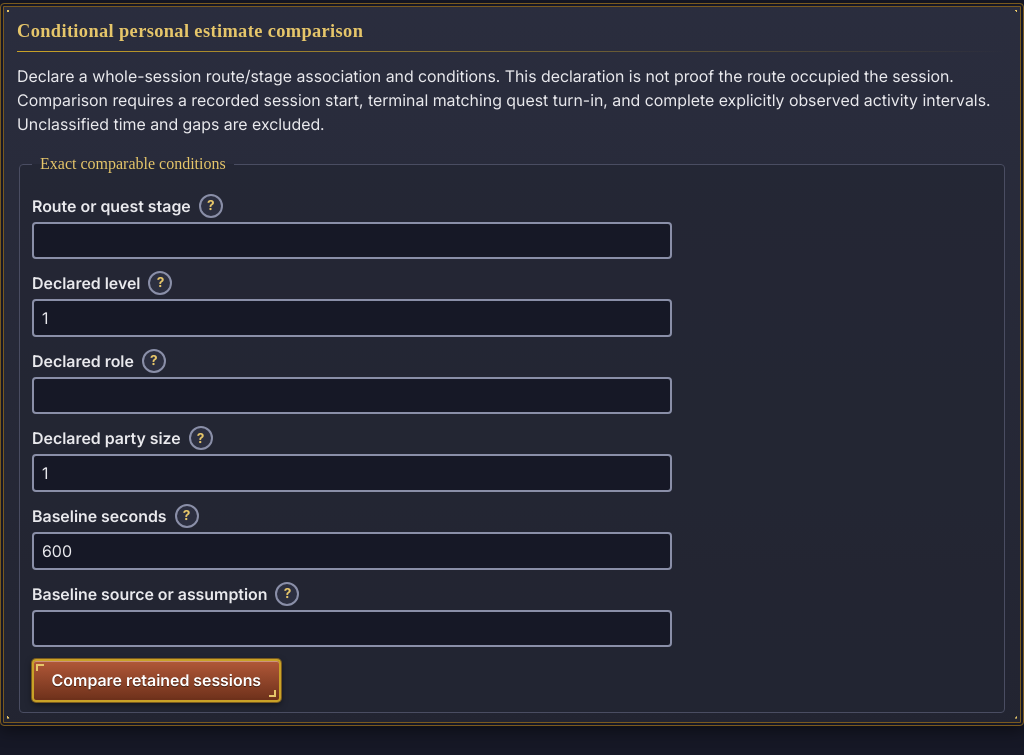
Scenario: comparison transmits explicit assumptions and exposes excluded sparse samples
Step 1. Type "stage-a" into the field labelled "Route or quest stage" → (352, 240), box [32, 222, 672, 259]
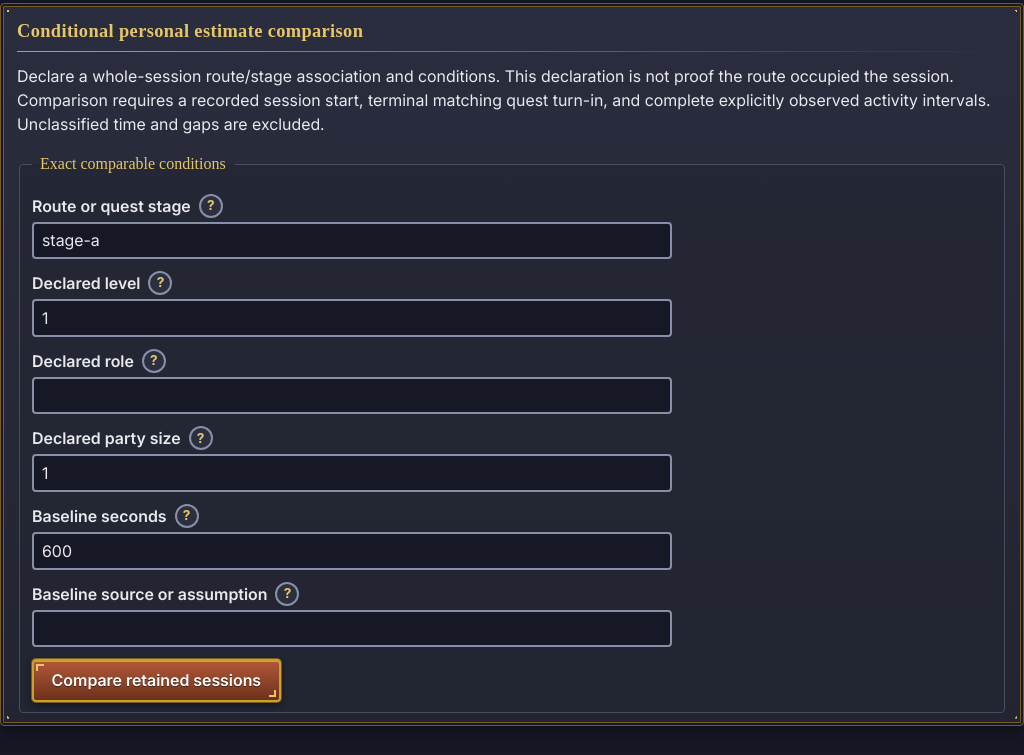
Step 2. Type "healer" into the field labelled "Declared role" → (352, 396), box [32, 377, 672, 414]
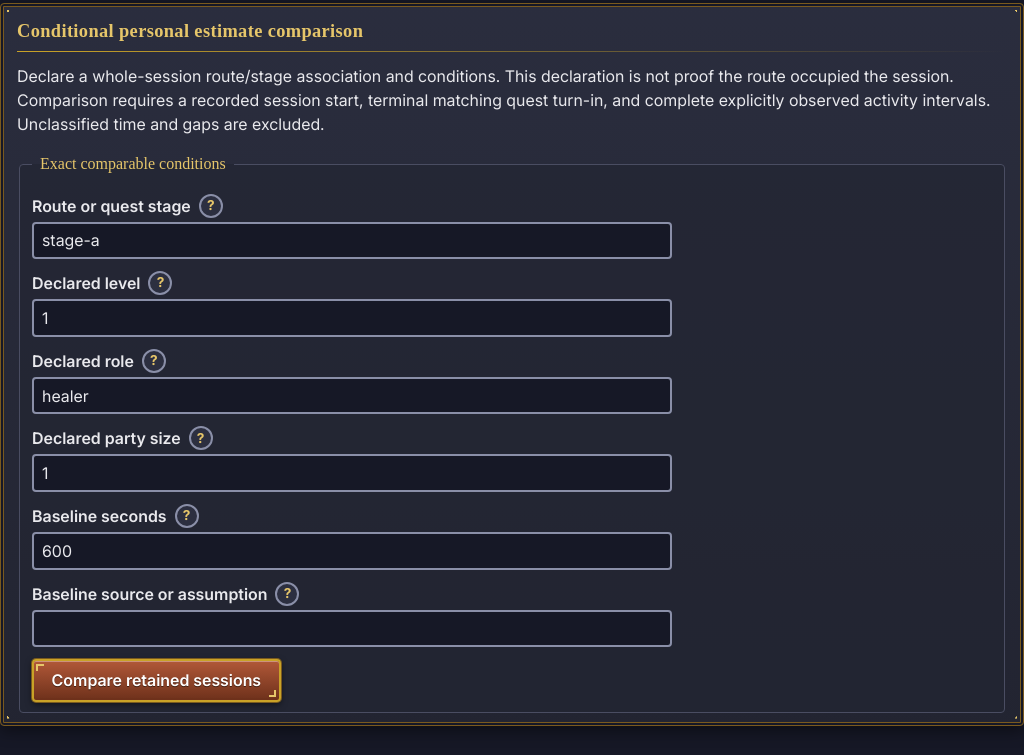
Step 3. Type "planning assumption" into the field labelled "Baseline source or assumption" → (352, 628), box [32, 610, 672, 647]
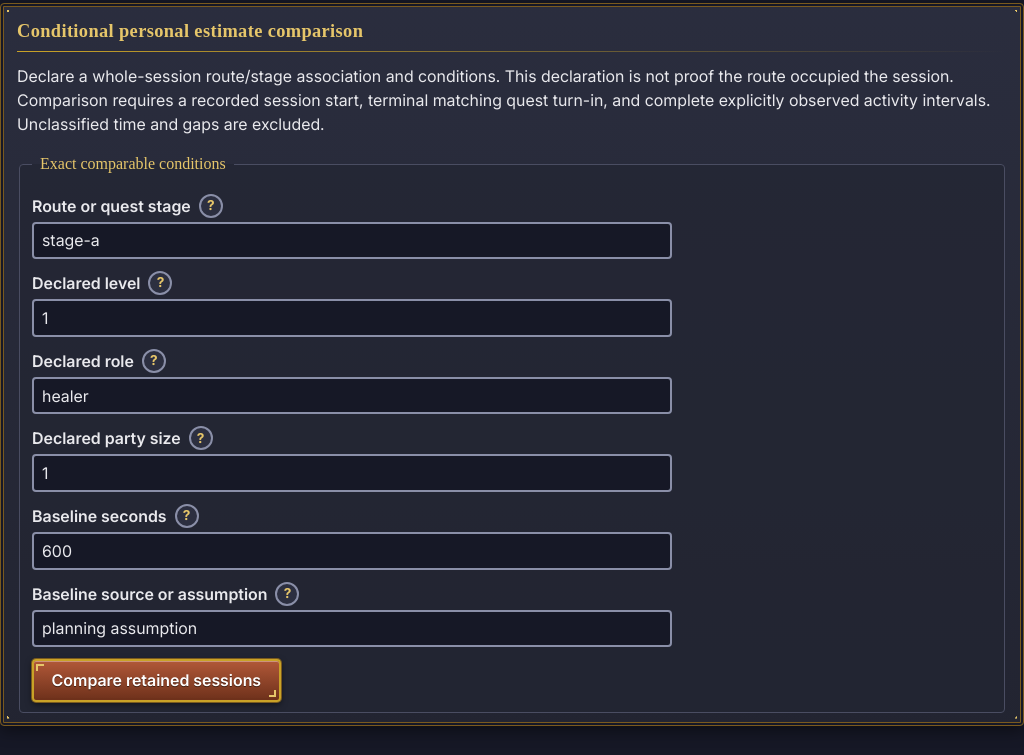
Step 4. Click the button "Compare retained sessions" → click(156, 680), box [32, 659, 281, 702]
(page scrolled)
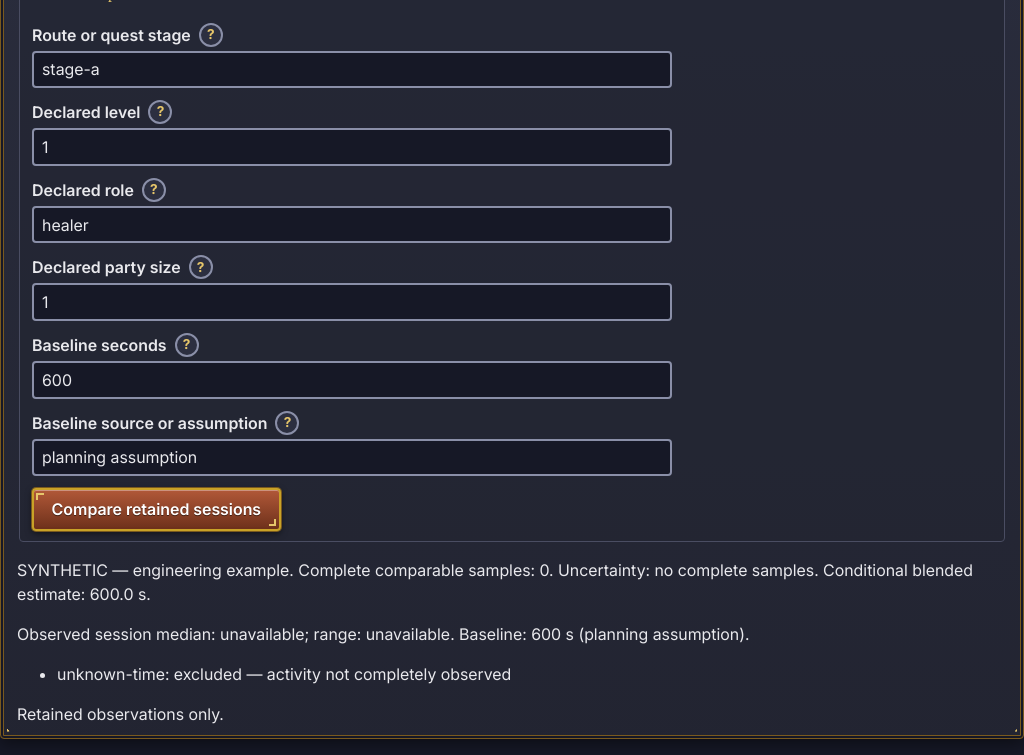
Now the text "Complete comparable samples: 0" shows "SYNTHETIC", box [17, 560, 298, 580]
Now the list item "unknown-time: excluded — activity not completely observed" is shown, box [57, 664, 511, 684]
